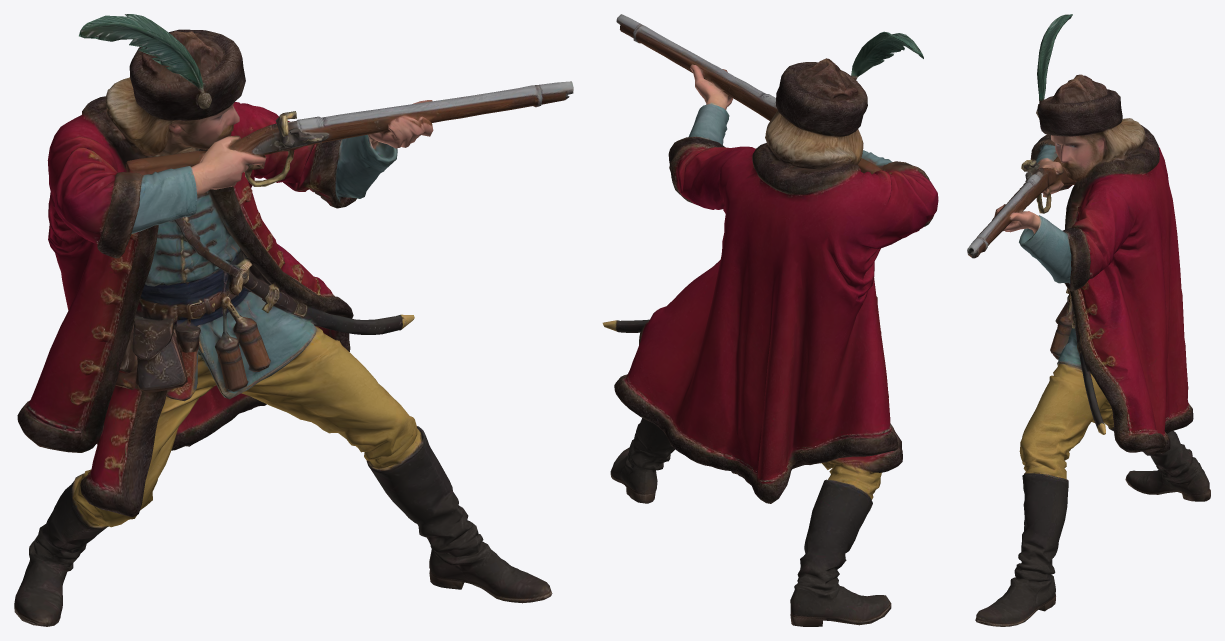
The model's file is erdelli-macar-tufekci-1580-1600-tripo-v1.glb.
3 views of the same model, side by side, from view 1: azimuth 30°, elevation 25°; view 2: azimuth 150°, elevation 25°; view 3: azimuth 270°, elevation 25° (orthographic). The views are drawn at different scales.
Visible parts, largest first — view 1: tripo_node_1ed0425c-765a-41de-aa40-af51d51d73cd; view 2: tripo_node_1ed0425c-765a-41de-aa40-af51d51d73cd; view 3: tripo_node_1ed0425c-765a-41de-aa40-af51d51d73cd.
Part boxes in pixels (left/top/right/bottom): tripo_node_1ed0425c-765a-41de-aa40-af51d51d73cd: left=14, top=14, right=573, bottom=626; tripo_node_1ed0425c-765a-41de-aa40-af51d51d73cd: left=602, top=14, right=938, bottom=626; tripo_node_1ed0425c-765a-41de-aa40-af51d51d73cd: left=967, top=14, right=1210, bottom=626.
Bounding box in the file's own units: 0.722 × 1 × 0.4649.
1 material, 1 textured.
